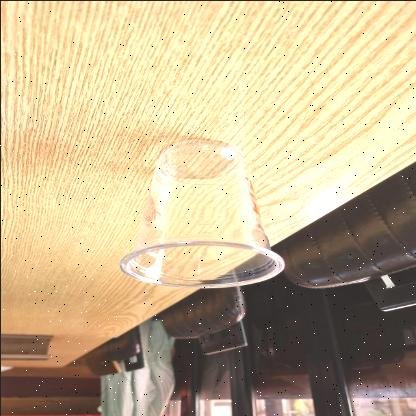Others: (117, 131, 287, 292)
